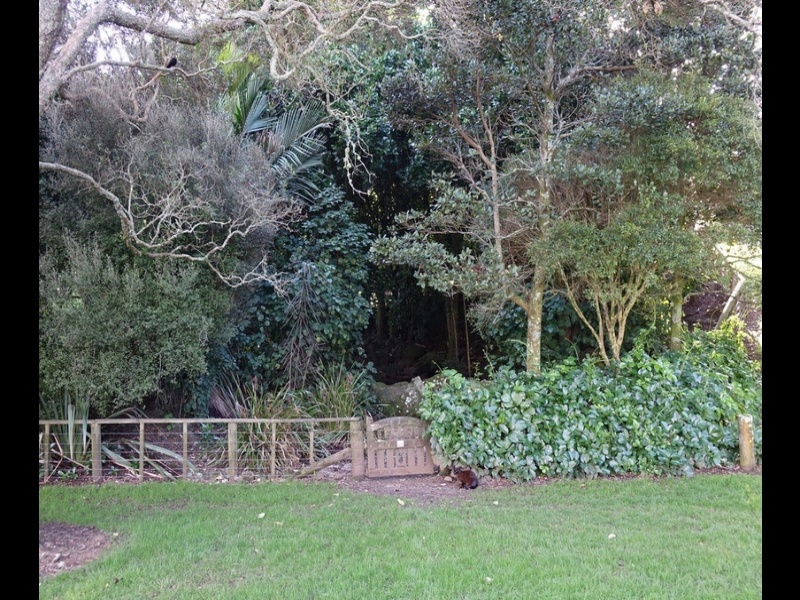cat: (452, 466, 481, 491)
